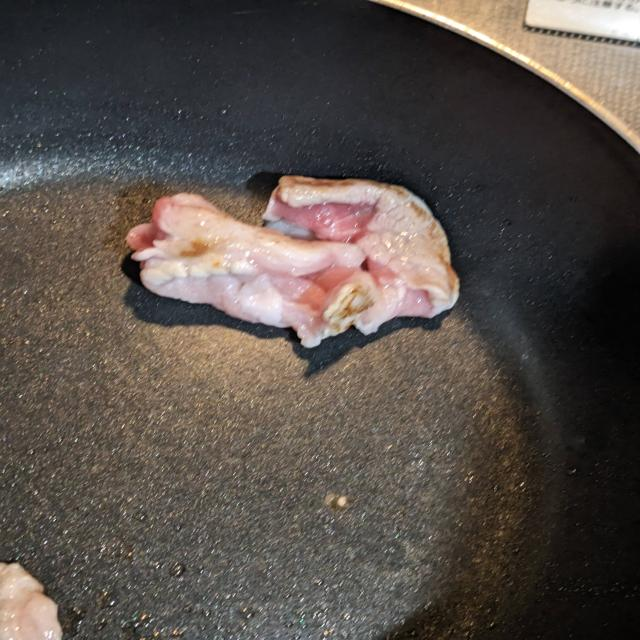NG undercooked pork,: (122, 170, 476, 359)
